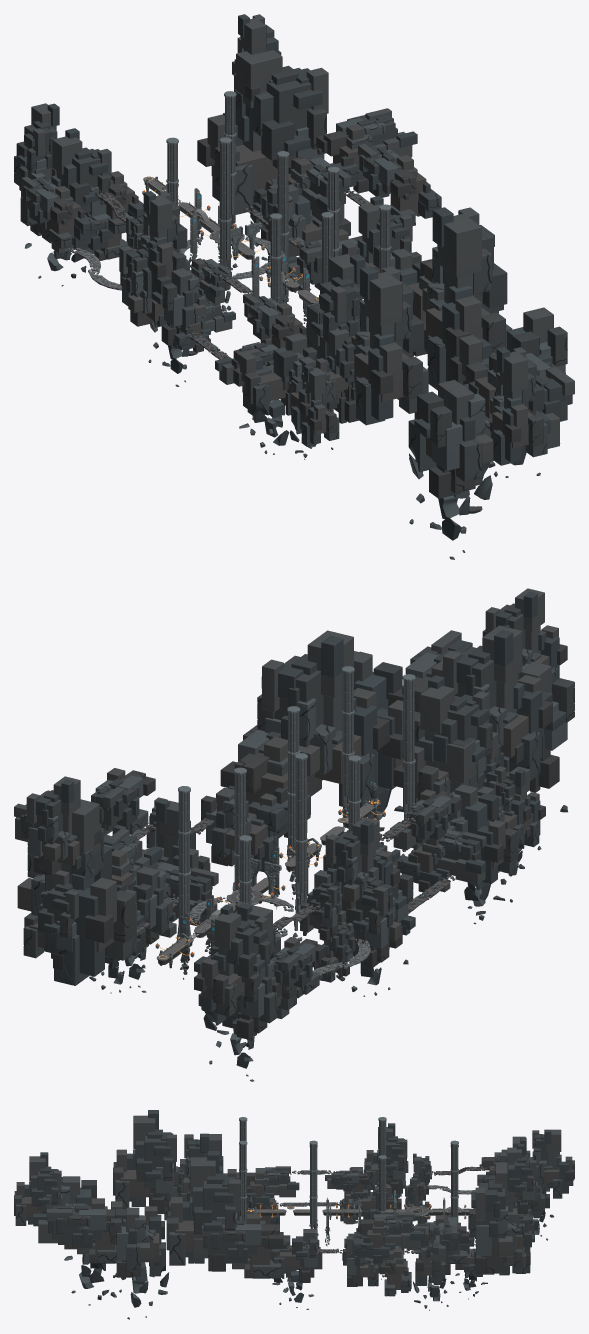
The model's file is underworld2.glb.
3 views of the same model, one above another, from view 1: azimuth 30°, elevation 25°; view 2: azimuth 150°, elevation 25°; view 3: azimuth 270°, elevation 25° (orthographic). The views are drawn at different scales.
Visible parts, largest first — view 1: ruins_001.027, ruins_001.022, ruins_002.027, ruins_001.084, ruins_001.085, ruins_002.003, ruins_002.005, ruins_001.020, ruins_001.038, ruins_001.036, ruins_001.002, ruins_001.011 (+26 smaller); view 2: ruins_001.022, ruins_001.027, ruins_001.084, ruins_001.011, ruins_001.034, ruins_001.028, ruins_001.004, ruins_002.003, ruins_002.005, ruins_001.002, ruins_001.025, ruins_002.006 (+27 smaller); view 3: ruins_001.022, ruins_001.084, ruins_001.027, ruins_002.005, ruins_001.004, ruins_001.086, ruins_001.038, ruins_001.085, ruins_002.006, ruins_001.034, ruins_002.027, ruins_001.002 (+21 smaller).
Part boxes in pixels (x1,y1,x2,y2): ruins_001.027: (197, 37, 328, 214); ruins_001.022: (422, 207, 512, 390); ruins_002.027: (408, 380, 493, 559); ruins_001.084: (351, 266, 428, 425); ruins_001.085: (490, 347, 547, 465); ruins_002.003: (233, 333, 317, 454); ruins_002.005: (450, 307, 567, 477); ruins_001.020: (316, 108, 417, 193); ruins_001.038: (358, 144, 441, 225); ruins_001.036: (28, 128, 111, 243); ruins_001.002: (138, 191, 189, 298); ruins_001.011: (306, 254, 365, 356); ruins_001.022: (257, 630, 389, 807); ruins_001.027: (17, 790, 136, 985); ruins_001.084: (442, 625, 552, 780); ruins_001.011: (393, 675, 492, 811); ruins_001.034: (194, 904, 270, 1016); ruins_001.028: (24, 776, 101, 881); ruins_001.004: (220, 725, 322, 839); ruins_002.003: (448, 784, 518, 924); ruins_002.005: (354, 651, 424, 840); ruins_001.002: (323, 817, 400, 915); ruins_001.025: (397, 829, 486, 892); ruins_002.006: (201, 787, 286, 903); ruins_001.022: (166, 1151, 241, 1271); ruins_001.084: (113, 1110, 177, 1213); ruins_001.027: (468, 1162, 530, 1274); ruins_002.005: (109, 1206, 169, 1319); ruins_001.004: (193, 1213, 290, 1278); ruins_001.086: (33, 1198, 116, 1263); ruins_001.038: (353, 1212, 424, 1263); ruins_001.085: (14, 1152, 62, 1225); ruins_002.006: (272, 1229, 322, 1309); ruins_001.034: (532, 1129, 574, 1198); ruins_002.027: (61, 1176, 122, 1305); ruins_001.002: (364, 1123, 408, 1193).
Bounding box in the file's own units: 324 × 265 × 699.
13 materials, 7 textured.
